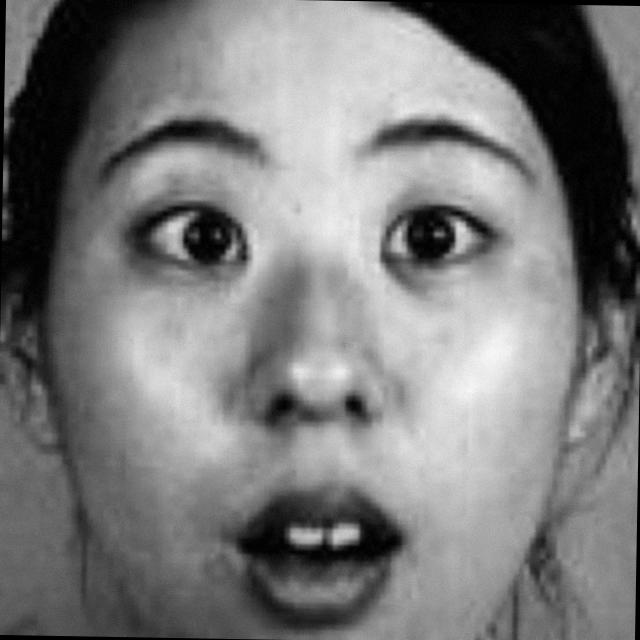surprise: (54, 19, 566, 640)
